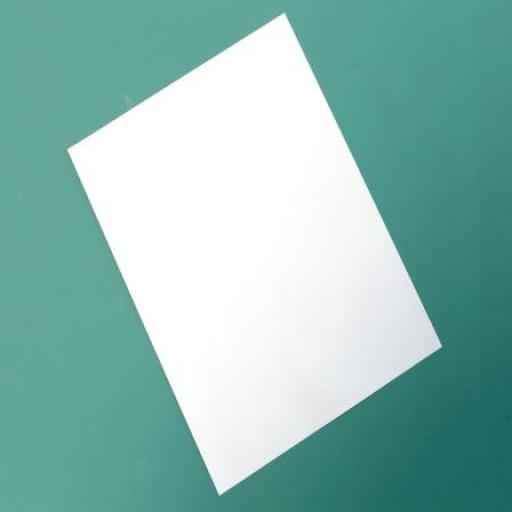paper: (20, 0, 499, 494)
